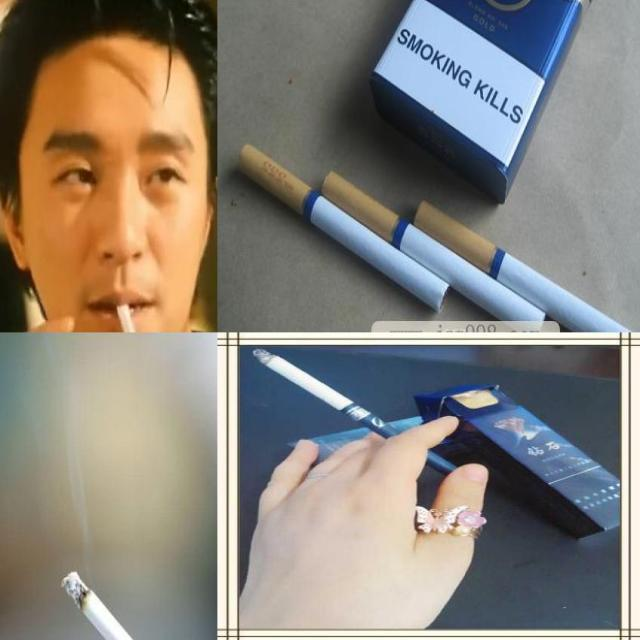smoking: (320, 170, 548, 332), (238, 142, 450, 314), (247, 346, 490, 480), (413, 200, 640, 332), (61, 569, 213, 639), (114, 304, 146, 332)
